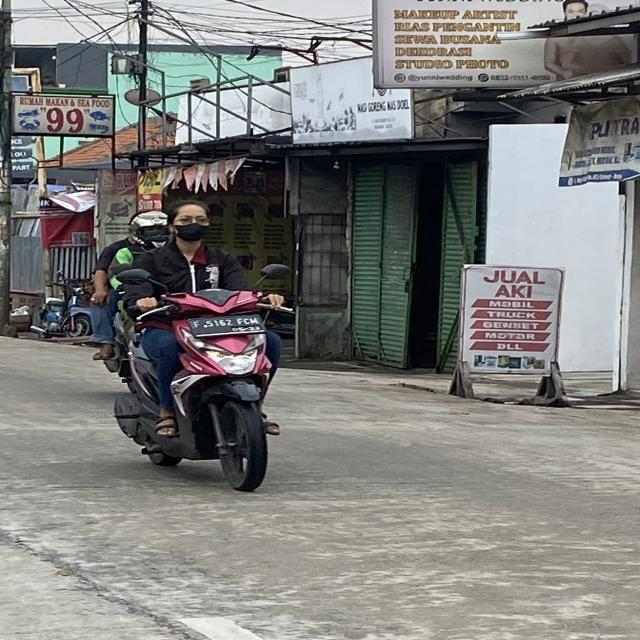Helmet: (130, 211, 169, 248)
Number Plate: (188, 314, 264, 337)
Rearview Mirror: (117, 268, 150, 284), (261, 264, 290, 278)
